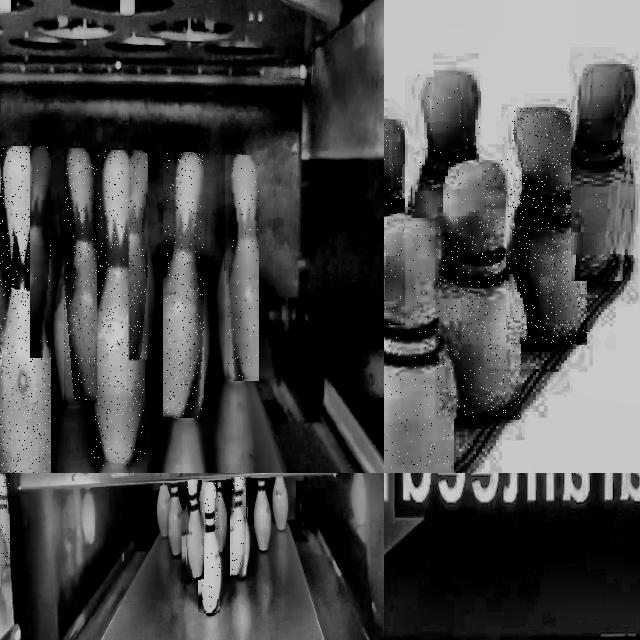bowling-pins: (437, 160, 520, 417), (506, 107, 587, 344), (384, 221, 454, 473), (91, 150, 145, 466), (0, 147, 50, 473), (572, 65, 634, 278), (411, 72, 482, 216), (165, 154, 203, 417), (64, 148, 97, 404), (227, 155, 258, 379), (30, 150, 49, 358), (131, 153, 148, 358), (201, 482, 219, 612), (384, 120, 404, 224), (185, 481, 201, 579), (231, 478, 245, 577), (254, 479, 272, 552), (167, 483, 184, 556), (213, 481, 228, 554), (272, 475, 288, 531), (156, 483, 170, 537)
